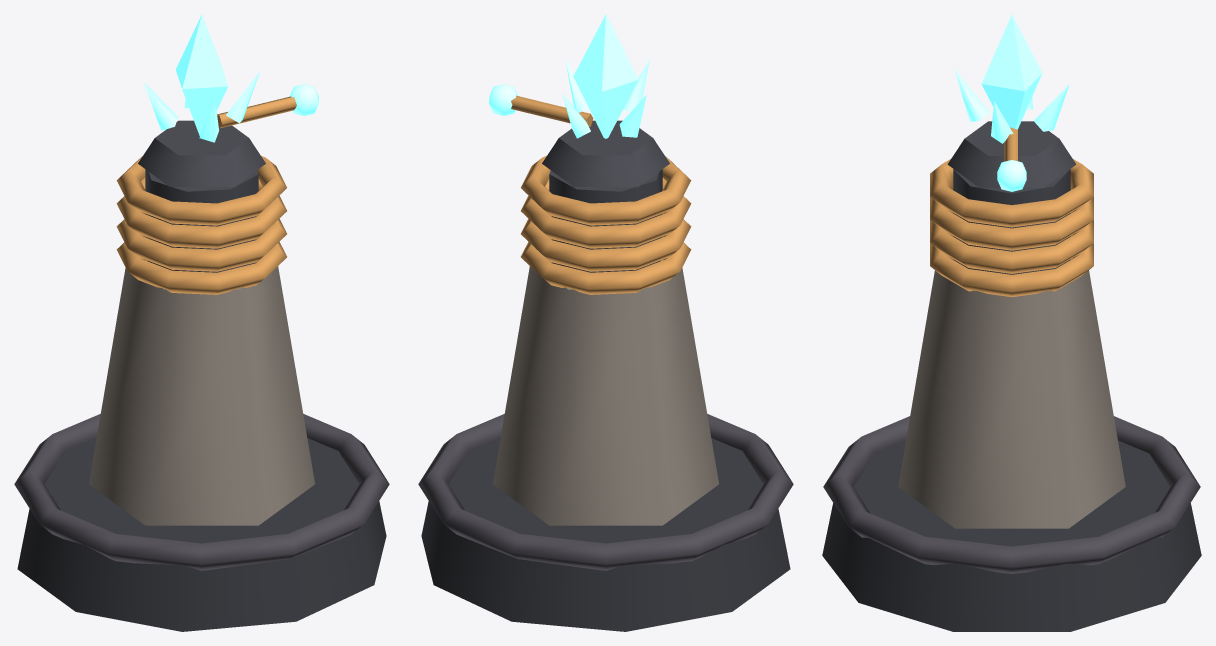
The model's file is tower_chain.glb.
3 views of the same model, side by side, from view 1: azimuth 30°, elevation 25°; view 2: azimuth 150°, elevation 25°; view 3: azimuth 270°, elevation 25° (orthographic).
Visible parts, largest first — view 1: shaft, base, base_rim, cap, coil_3, coil_2, coil_1, coil_0, crystal_core, coil_core, emitter_rod, emitter_orb (+2 smaller); view 2: shaft, base, base_rim, cap, coil_3, crystal_core, coil_2, coil_1, coil_0, coil_core, emitter_rod, emitter_orb (+1 smaller); view 3: shaft, base, base_rim, cap, coil_3, coil_2, coil_1, crystal_core, coil_0, coil_core, emitter_orb, prong_1 (+1 smaller).
Boxes of the visible parts, bbox=[...] form: shaft: bbox=[89, 260, 314, 525]; base: bbox=[17, 438, 386, 631]; base_rim: bbox=[14, 414, 389, 570]; cap: bbox=[138, 120, 265, 186]; coil_3: bbox=[116, 156, 286, 225]; coil_2: bbox=[116, 178, 286, 248]; coil_1: bbox=[116, 219, 286, 271]; coil_0: bbox=[116, 242, 286, 294]; crystal_core: bbox=[175, 14, 228, 135]; coil_core: bbox=[145, 169, 258, 272]; emitter_rod: bbox=[217, 96, 296, 128]; emitter_orb: bbox=[289, 84, 318, 115]; shaft: bbox=[493, 260, 718, 525]; base: bbox=[421, 438, 790, 631]; base_rim: bbox=[418, 414, 793, 570]; cap: bbox=[542, 120, 669, 186]; coil_3: bbox=[521, 156, 691, 225]; crystal_core: bbox=[573, 14, 638, 138]; coil_2: bbox=[521, 178, 691, 248]; coil_1: bbox=[521, 219, 691, 271]; coil_0: bbox=[521, 242, 691, 294]; coil_core: bbox=[549, 169, 662, 272]; emitter_rod: bbox=[511, 95, 593, 126]; emitter_orb: bbox=[489, 84, 517, 115]; shaft: bbox=[898, 270, 1125, 528]; base: bbox=[822, 440, 1201, 631]; base_rim: bbox=[823, 416, 1200, 573]; cap: bbox=[947, 121, 1076, 187]; coil_3: bbox=[930, 159, 1093, 227]; coil_2: bbox=[930, 197, 1093, 250]; coil_1: bbox=[930, 220, 1093, 273]; crystal_core: bbox=[981, 14, 1042, 129]; coil_0: bbox=[930, 243, 1093, 296]; coil_core: bbox=[953, 169, 1070, 274]; emitter_orb: bbox=[997, 160, 1026, 191]; prong_1: bbox=[954, 69, 989, 122].
Size of the model in its own units: 0.398 by 0.63 by 0.4.
